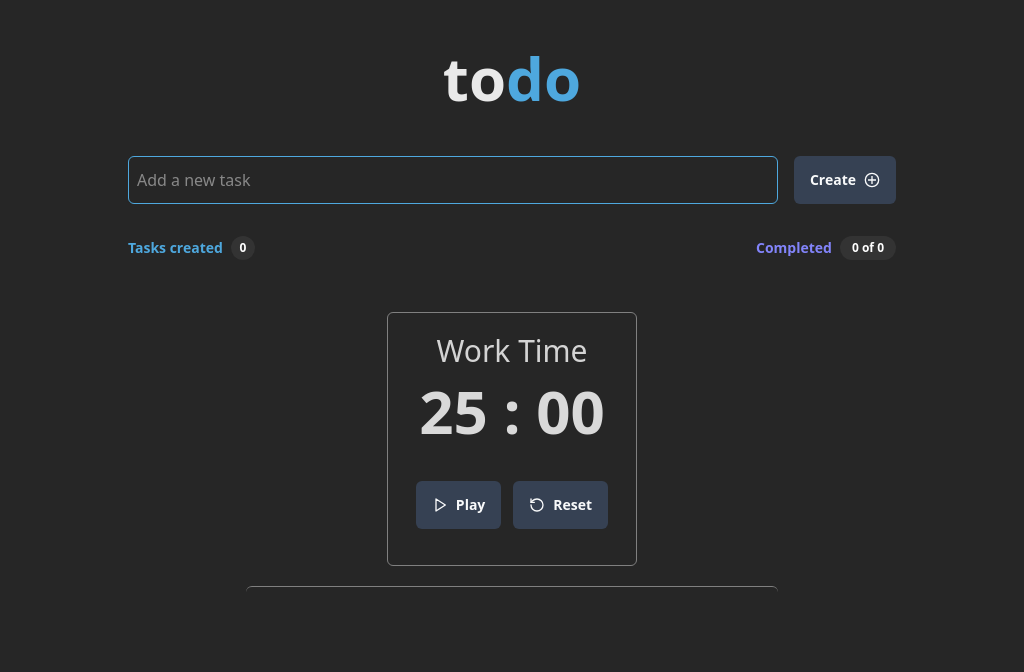
it: Todo List › should render HomePage and add tasks
The width and height of the screenshot is (1024, 672).
Type "Teste" into the field with placeholder "Add a new task". click: (453, 180)
box: [128,156,778,204]
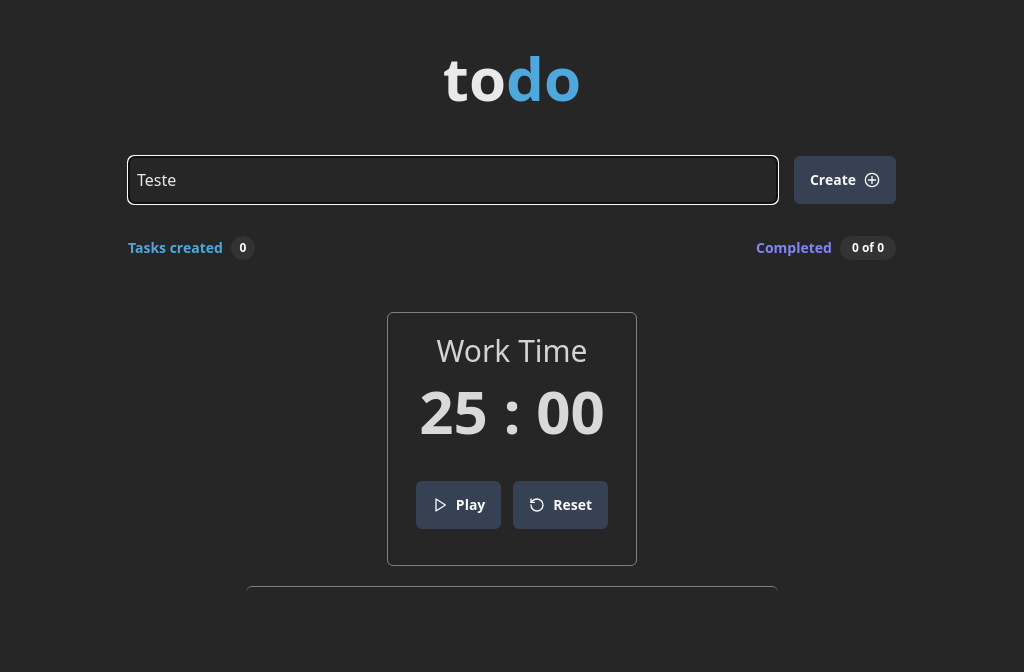
Click the button "Create". click: (845, 180)
box: [794,156,896,204]
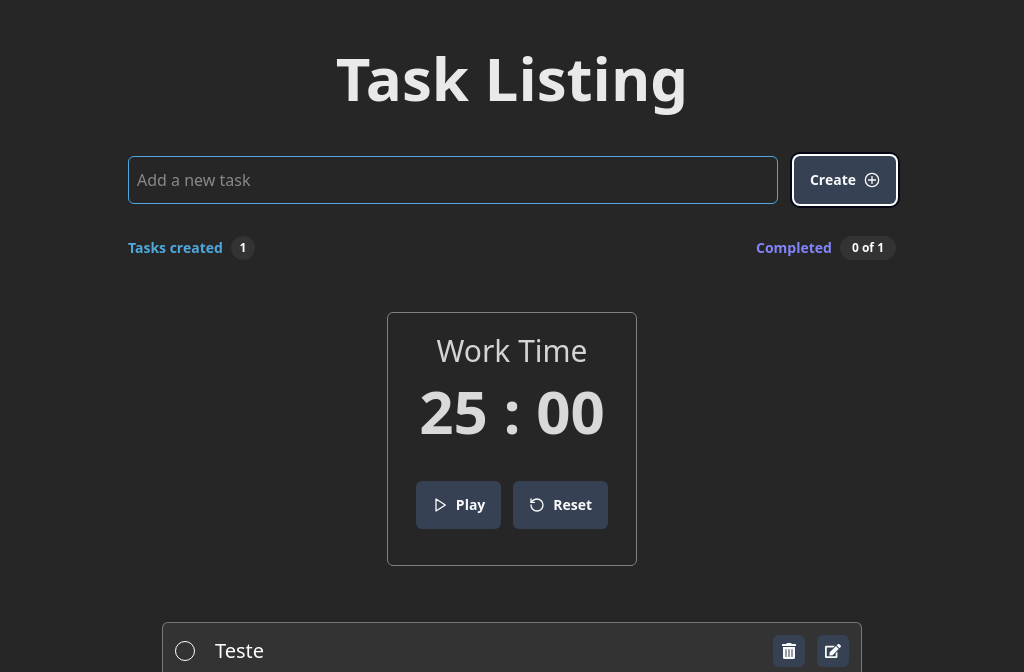
Check: the text "Teste" is shown, box [215,637,264,664]
